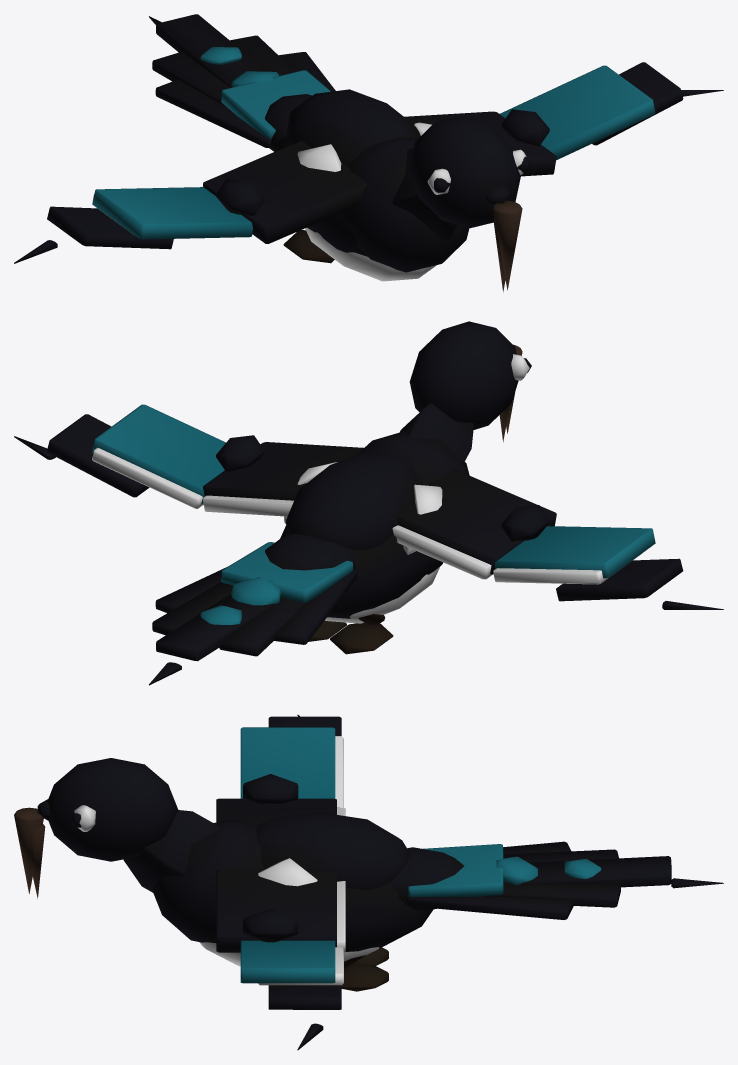
Rendered from magpie.glb.
3 views of the same model, one above another, from view 1: azimuth 30°, elevation 25°; view 2: azimuth 150°, elevation 25°; view 3: azimuth 270°, elevation 25° (orthographic). The views are drawn at different scales.
Parts seen in each view (by area): view 1: magpie; view 2: magpie; view 3: magpie.
Part boxes in pixels (<box>): magpie: <box>14,14,723,292</box>; magpie: <box>14,321,723,685</box>; magpie: <box>14,714,723,1050</box>.
Bounding box in the file's own units: 0.9208 × 0.2719 × 0.8237.
